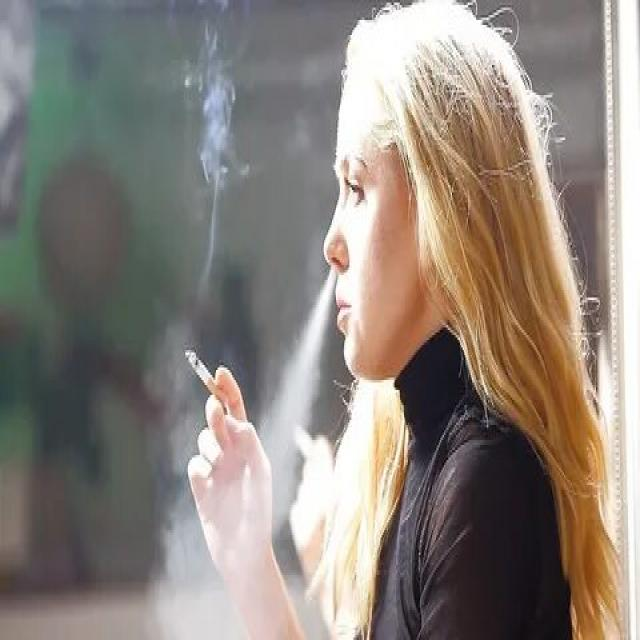smoke: (184, 340, 229, 415)
